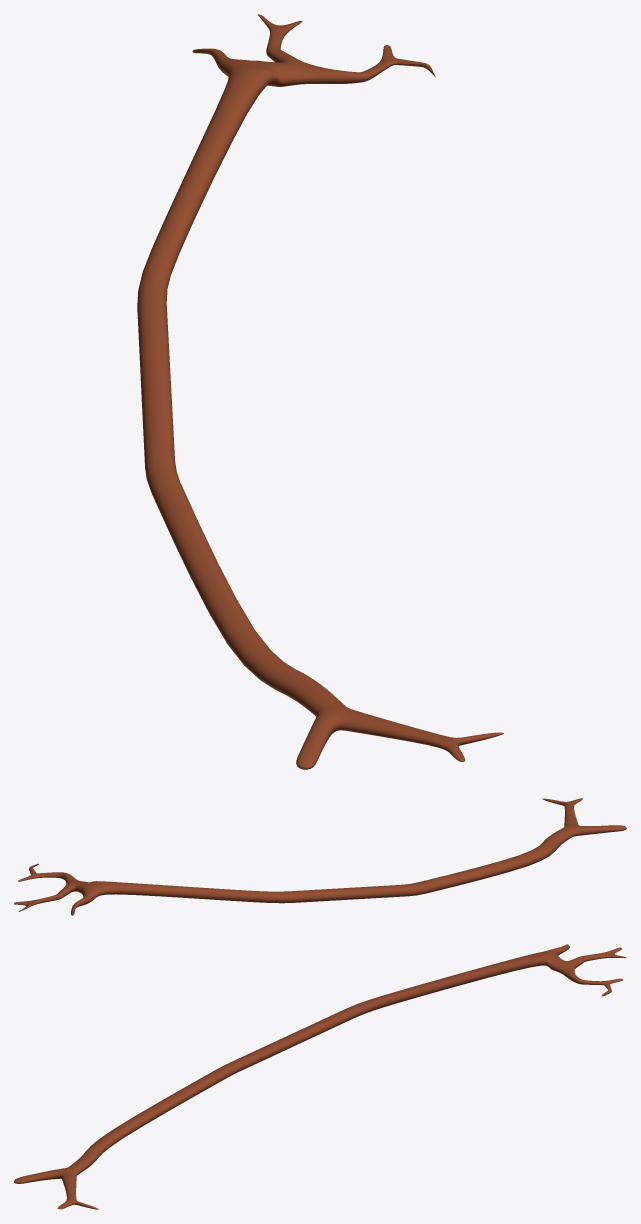
The model's file is Stick.glb.
The picture shows the model from 3 angles, top to bottom: view 1: azimuth 30°, elevation 25°; view 2: azimuth 150°, elevation 25°; view 3: azimuth 330°, elevation 25°; orthographic projection. The views are drawn at different scales.
Visible parts, largest first — view 1: pCube1; view 2: pCube1; view 3: pCube1.
Part boxes in pixels (x1=…): pCube1: x1=137, y1=14, x2=503, y2=769; pCube1: x1=14, y1=798, x2=626, y2=915; pCube1: x1=14, y1=944, x2=626, y2=1209.
Size of the model in its own units: 34.02 by 8.6 by 59.13.
